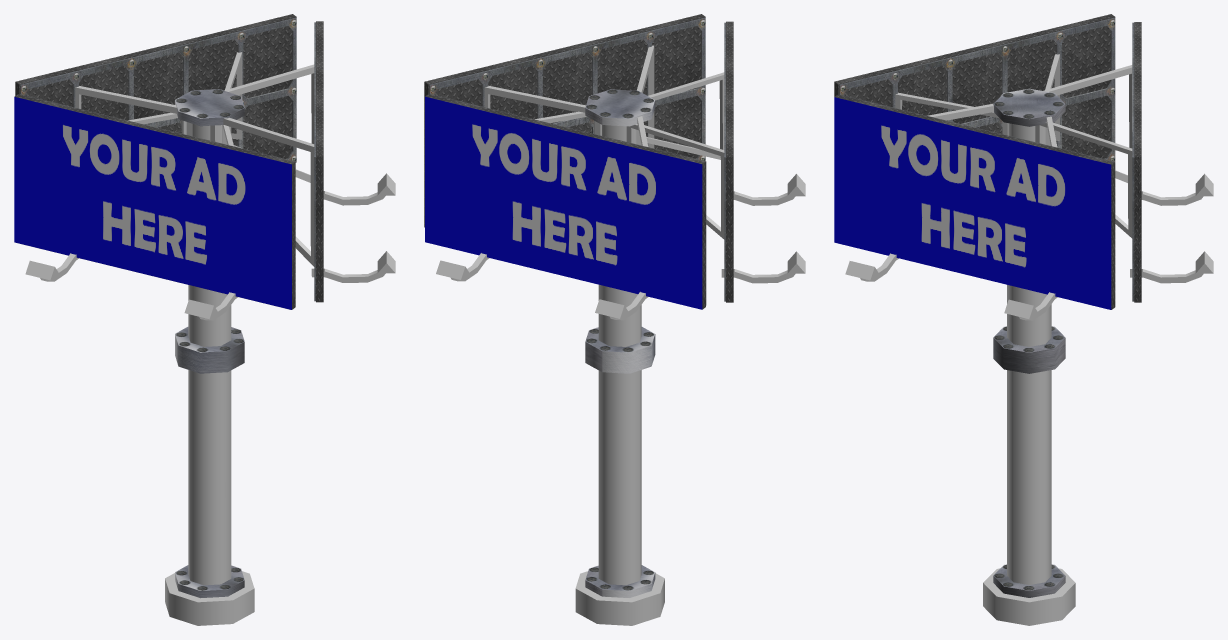
File: billboard_03.fbx
3 renders of one model, left to right at view 1: azimuth 30°, elevation 25°; view 2: azimuth 150°, elevation 25°; view 3: azimuth 270°, elevation 25°, orthographic.
Visible parts, largest first — view 1: pCube362, pCylinder51, pCube346, pCube487, polySurface14, pCube367; view 2: pCube346, pCylinder51, pCube367, pCube487, polySurface14, pCube362; view 3: pCube367, pCylinder51, pCube362, pCube487, polySurface14, pCube346.
Boxes of the visible parts, bbox=[...] form: pCube362: bbox=[14, 94, 295, 309]; pCylinder51: bbox=[165, 89, 254, 625]; pCube346: bbox=[15, 14, 296, 158]; pCube487: bbox=[19, 17, 315, 301]; polySurface14: bbox=[25, 173, 395, 320]; pCube367: bbox=[316, 21, 323, 302]; pCube346: bbox=[425, 94, 705, 309]; pCylinder51: bbox=[575, 89, 664, 625]; pCube367: bbox=[424, 14, 705, 227]; pCube487: bbox=[429, 17, 725, 305]; polySurface14: bbox=[436, 174, 805, 320]; pCube362: bbox=[726, 21, 733, 302]; pCube367: bbox=[834, 94, 1115, 309]; pCylinder51: bbox=[983, 88, 1075, 625]; pCube362: bbox=[834, 14, 1115, 158]; pCube487: bbox=[838, 17, 1134, 301]; polySurface14: bbox=[845, 173, 1213, 320]; pCube346: bbox=[1134, 22, 1141, 302].
Size of the model in its own units: 53.41 by 71.31 by 47.41.
